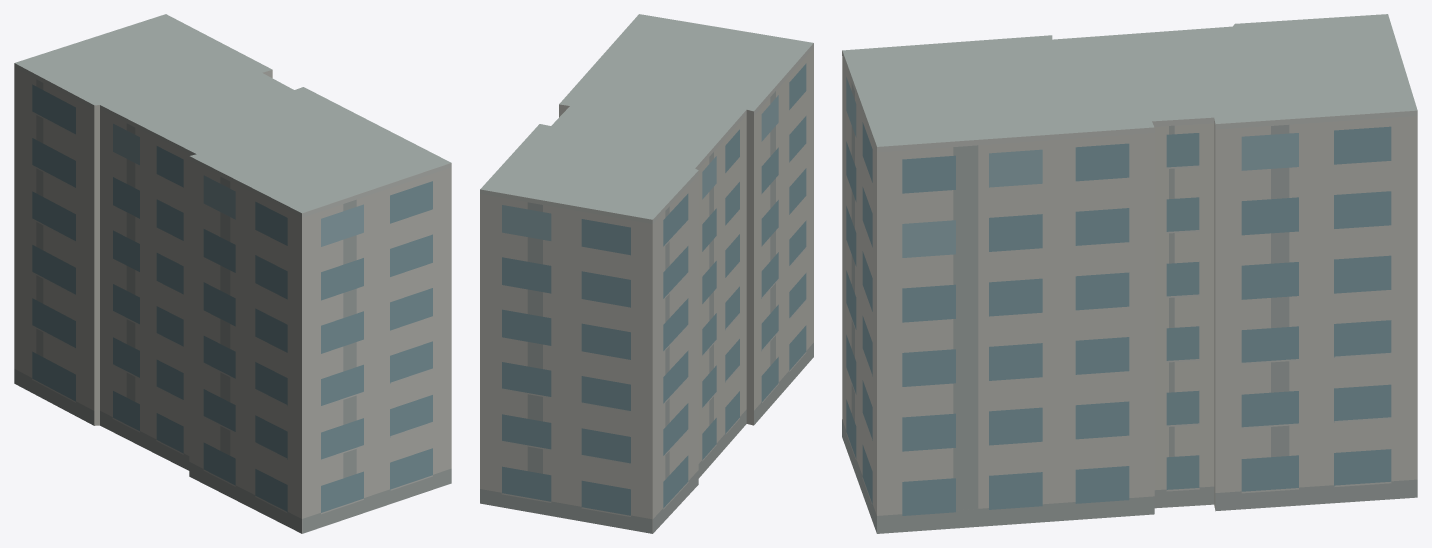
File: survey-upis-32576636.glb
3 views of the same model, side by side, from view 1: azimuth 30°, elevation 25°; view 2: azimuth 150°, elevation 25°; view 3: azimuth 270°, elevation 25° (orthographic). The views are drawn at different scales.
Parts seen in each view (by area): view 1: survey-upis-32576636.tmp; view 2: survey-upis-32576636.tmp; view 3: survey-upis-32576636.tmp.
Part boxes in pixels (<box>): survey-upis-32576636.tmp: <box>14,14,451,533</box>; survey-upis-32576636.tmp: <box>480,14,813,533</box>; survey-upis-32576636.tmp: <box>842,14,1417,533</box>.
Bounding box in the file's own units: 12.46 × 16.9 × 22.79.
